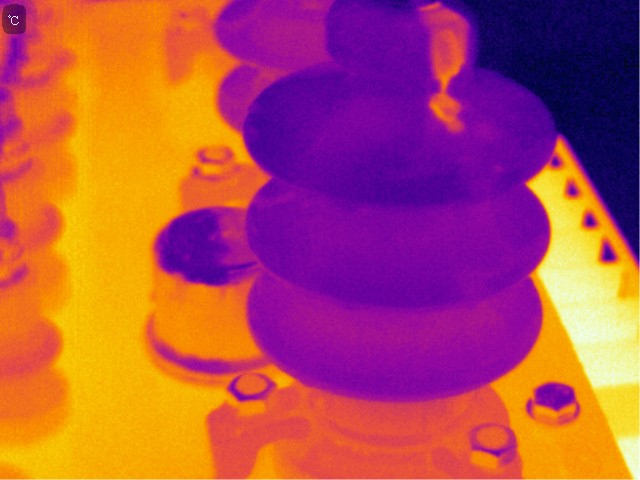Oil: (414, 2, 472, 139)
